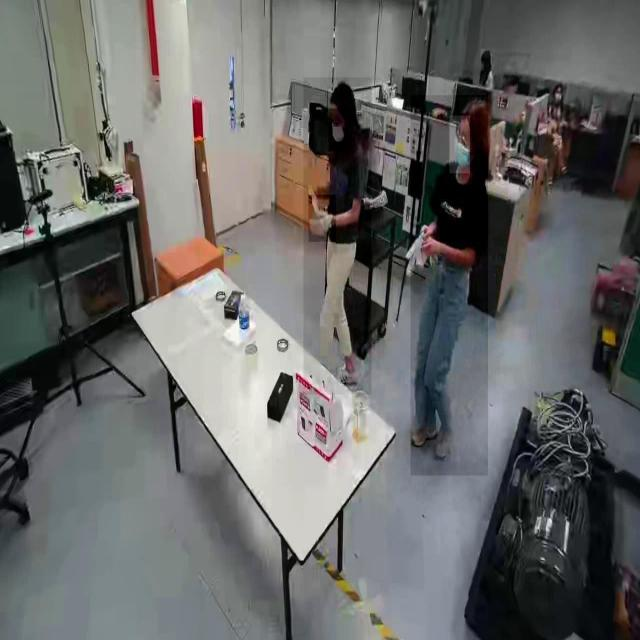face_mask: (450, 115, 470, 173), (328, 109, 348, 151)
hand_glove: (308, 194, 336, 242)
hand_noglove: (422, 226, 440, 258)
head_nohelmet: (330, 81, 356, 108), (459, 97, 489, 114), (480, 49, 490, 59)
person: (411, 95, 488, 477), (304, 77, 372, 396)
shoes: (407, 416, 439, 453)
